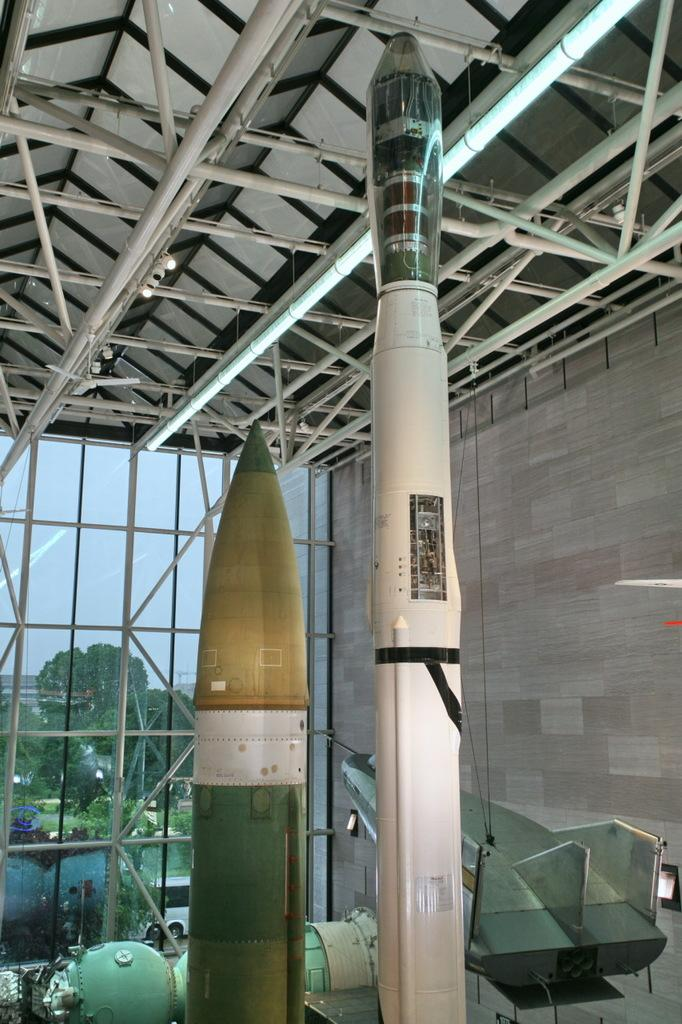Missile: (369, 30, 489, 1020), (183, 421, 309, 1023)
